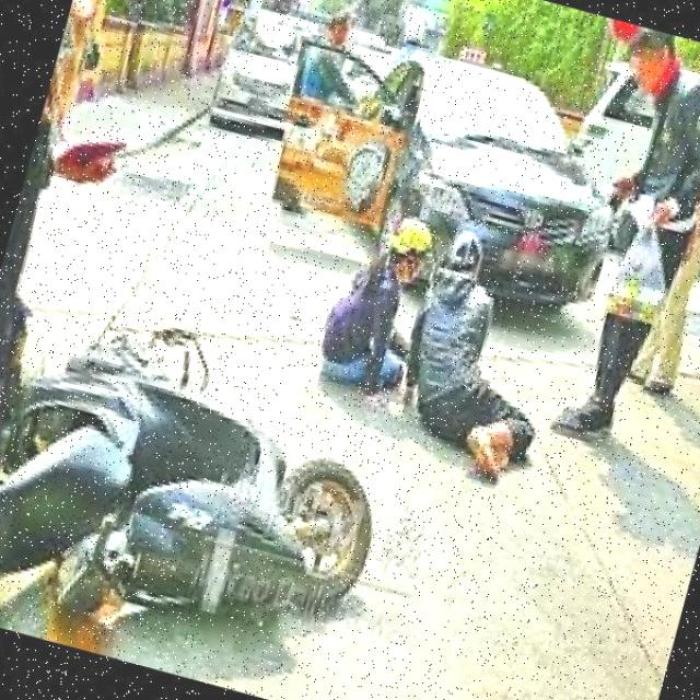Accident: (0, 263, 431, 700)
